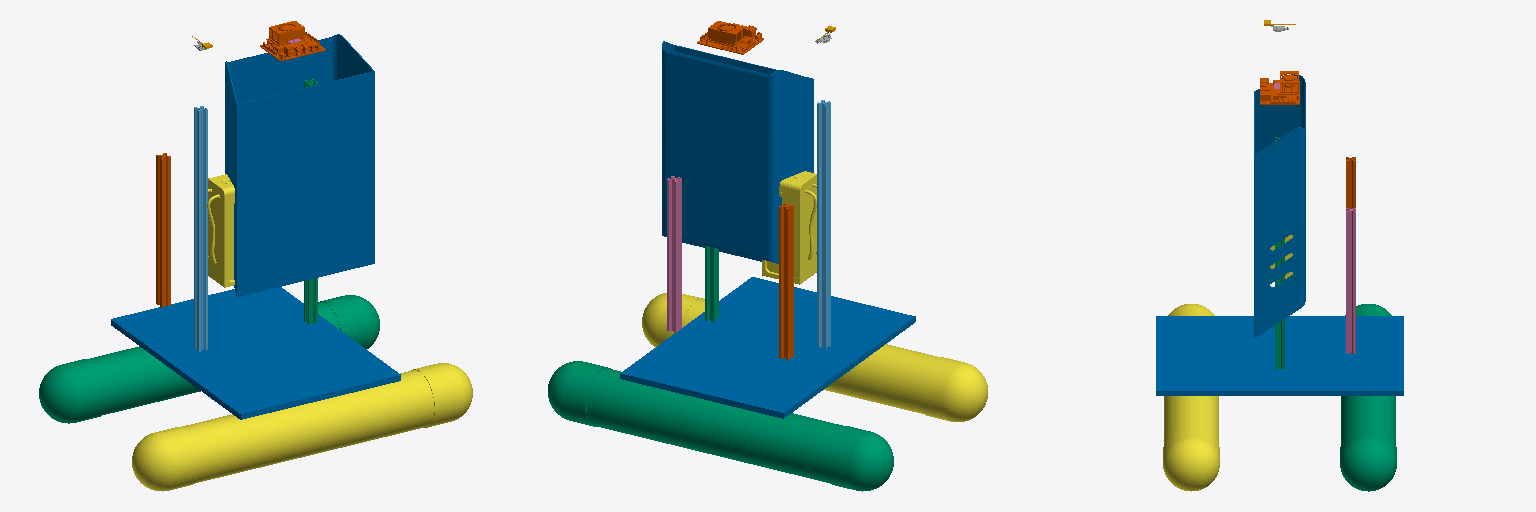
robot.urdf — asv_station_keeping_diag:
<?xml version='1.0' encoding='utf-8'?>
<robot name="asv_station_keeping_diag">
  <!-- Mesh-loading test only. Mounting poses are estimates, not Fusion occurrence transforms. 00_base has no visuals. -->
  <link name="base_footprint" />
  <link name="base_link">
    <inertial>
      <origin xyz="0 0 0" rpy="0 0 0" />
      <mass value="0.1" />
      <inertia ixx="0.0001" ixy="0" ixz="0" iyy="0.0001" iyz="0" izz="0.0001" />
    </inertial>
  </link>
  <link name="hull_left">
    <inertial>
      <origin xyz="0.0017543 -0.0000047 -0.0000010" rpy="0 0 0" />
      <mass value="8.7513272838" />
      <inertia ixx="0.0159438897" ixy="0" ixz="0" iyy="0.7485544942" iyz="0" izz="0.7485544942" />
    </inertial>
    <visual name="hull_left_visual">
      <origin xyz="-0.971730 0.357754 -1.641617" rpy="0 0 -1.57079632679" />
      <geometry>
        <mesh filename="package://asv_station_keeping/meshes/hull.stl" scale="0.001 0.001 0.001" />
      </geometry>
    </visual>
    <collision name="hull_left_collision">
      <geometry>
        <box size="0.724805 0.112973 0.112998" />
      </geometry>
    </collision>
  </link>
  <link name="hull_right">
    <inertial>
      <origin xyz="0.0017543 -0.0000047 -0.0000010" rpy="0 0 0" />
      <mass value="8.7513272838" />
      <inertia ixx="0.0159438897" ixy="0" ixz="0" iyy="0.7485544942" iyz="0" izz="0.7485544942" />
    </inertial>
    <visual name="hull_right_visual">
      <origin xyz="-0.971730 0.357754 -1.641617" rpy="0 0 -1.57079632679" />
      <geometry>
        <mesh filename="package://asv_station_keeping/meshes/hull.stl" scale="0.001 0.001 0.001" />
      </geometry>
    </visual>
    <collision name="hull_right_collision">
      <geometry>
        <box size="0.724805 0.112973 0.112998" />
      </geometry>
    </collision>
  </link>
  <link name="base_deck">
    <inertial>
      <origin xyz="0 0 0" rpy="0 0 0" />
      <mass value="16.1553" />
      <inertia ixx="0.3234344911" ixy="0" ixz="0" iyy="0.1651125511" iyz="0" izz="0.4881593150" />
    </inertial>
    <visual name="base_deck_visual">
      <origin xyz="-0.142254 -0.216347 -0.006000" rpy="1.57079632679 0 0" />
      <geometry>
        <mesh filename="package://asv_station_keeping/meshes/base_deck.stl" scale="0.001 0.001 0.001" />
      </geometry>
    </visual>
    <collision name="base_deck_collision">
      <geometry>
        <box size="0.350 0.490 0.012" />
      </geometry>
    </collision>
  </link>
  <link name="frame1_left">
    <inertial>
      <origin xyz="0 0 0" />
      <mass value="0.41469714" />
      <inertia ixx="0.00333785" ixy="0" ixz="0" iyy="0.00333785" iyz="0" izz="0.0000336422" />
    </inertial>
    <visual>
      <geometry>
        <mesh filename="package://asv_station_keeping/meshes/frame1.stl" scale="0.001 0.001 0.001" />
      </geometry>
    </visual>
    <collision>
      <geometry>
        <cylinder radius="0.010" length="0.310" />
      </geometry>
    </collision>
  </link>
  <link name="frame1_right">
    <inertial>
      <origin xyz="0 0 0" />
      <mass value="0.41469714" />
      <inertia ixx="0.00333785" ixy="0" ixz="0" iyy="0.00333785" iyz="0" izz="0.0000336422" />
    </inertial>
    <visual>
      <geometry>
        <mesh filename="package://asv_station_keeping/meshes/frame1.stl" scale="0.001 0.001 0.001" />
      </geometry>
    </visual>
    <collision>
      <geometry>
        <cylinder radius="0.010" length="0.310" />
      </geometry>
    </collision>
  </link>
  <link name="frame2_left">
    <inertial>
      <origin xyz="0 0 0" />
      <mass value="0.66886635" />
      <inertia ixx="0.01396185" ixy="0" ixz="0" iyy="0.01396185" iyz="0" izz="0.000054262" />
    </inertial>
    <visual>
      <geometry>
        <mesh filename="package://asv_station_keeping/meshes/frame2.stl" scale="0.001 0.001 0.001" />
      </geometry>
    </visual>
    <collision>
      <geometry>
        <cylinder radius="0.010" length="0.500" />
      </geometry>
    </collision>
  </link>
  <link name="frame2_right">
    <inertial>
      <origin xyz="0 0 0" />
      <mass value="0.66886635" />
      <inertia ixx="0.01396185" ixy="0" ixz="0" iyy="0.01396185" iyz="0" izz="0.000054262" />
    </inertial>
    <visual>
      <geometry>
        <mesh filename="package://asv_station_keeping/meshes/frame2.stl" scale="0.001 0.001 0.001" />
      </geometry>
    </visual>
    <collision>
      <geometry>
        <cylinder radius="0.010" length="0.500" />
      </geometry>
    </collision>
  </link>
  <link name="frame3_left">
    <inertial>
      <origin xyz="0 0 0" />
      <mass value="0.66886635" />
      <inertia ixx="0.01396185" ixy="0" ixz="0" iyy="0.01396185" iyz="0" izz="0.000054262" />
    </inertial>
    <visual>
      <geometry>
        <mesh filename="package://asv_station_keeping/meshes/frame3.stl" scale="0.001 0.001 0.001" />
      </geometry>
    </visual>
    <collision>
      <geometry>
        <cylinder radius="0.010" length="0.500" />
      </geometry>
    </collision>
  </link>
  <link name="frame3_right">
    <inertial>
      <origin xyz="0 0 0" />
      <mass value="0.66886635" />
      <inertia ixx="0.01396185" ixy="0" ixz="0" iyy="0.01396185" iyz="0" izz="0.000054262" />
    </inertial>
    <visual>
      <geometry>
        <mesh filename="package://asv_station_keeping/meshes/frame3.stl" scale="0.001 0.001 0.001" />
      </geometry>
    </visual>
    <collision>
      <geometry>
        <cylinder radius="0.010" length="0.500" />
      </geometry>
    </collision>
  </link>
  <link name="battery">
    <inertial>
      <origin xyz="0.011821 0 0.000846" />
      <mass value="8.29420474" />
      <inertia ixx="0.0317350" ixy="0" ixz="0.0000687" iyy="0.0339037" iyz="0" izz="0.00778636" />
    </inertial>
    <visual>
      <origin xyz="0.012244 -0.035000 -0.000150" />
      <geometry>
        <mesh filename="package://asv_station_keeping/meshes/battery.stl" scale="0.001 0.001 0.001" />
      </geometry>
    </visual>
    <collision>
      <geometry>
        <box size="0.109 0.070 0.202" />
      </geometry>
    </collision>
  </link>
  <link name="electronics">
    <inertial>
      <origin xyz="0 -0.005565 -0.000224" />
      <mass value="4.50915118" />
      <inertia ixx="0.0697094" ixy="0" ixz="0" iyy="0.1035140" iyz="-0.00452282" izz="0.0519051" />
    </inertial>
    <visual>
      <origin xyz="0 -0.051000 -0.023578" />
      <geometry>
        <mesh filename="package://asv_station_keeping/meshes/electronics.stl" scale="0.001 0.001 0.001" />
      </geometry>
    </visual>
    <collision>
      <geometry>
        <box size="0.300 0.102 0.447" />
      </geometry>
    </collision>
  </link>
  <link name="jetson_nano">
    <inertial>
      <origin xyz="-0.001623 0.002547 -0.004382" />
      <mass value="0.55767391" />
      <inertia ixx="0.00033845" ixy="0.000000893" ixz="0.00000257" iyy="0.00033690" iyz="-0.00004065" izz="0.00056875" />
    </inertial>
    <visual>
      <origin xyz="-0.004000 -0.007385 -0.025097" />
      <geometry>
        <mesh filename="package://asv_station_keeping/meshes/Jetson-Nano.stl" scale="0.001 0.001 0.001" />
      </geometry>
    </visual>
    <collision>
      <geometry>
        <box size="0.100 0.080 0.040" />
      </geometry>
    </collision>
  </link>
  <link name="imu_link">
    <inertial>
      <origin xyz="-0.00000256 0.00000402 0" />
      <mass value="0.00700317" />
      <inertia ixx="0.0000002895" ixy="0.000000000021" ixz="0" iyy="0.0000003634" iyz="0" izz="0.0000006497" />
    </inertial>
    <visual>
      <geometry>
        <mesh filename="package://asv_station_keeping/meshes/imu_Adafruit-BNO085-STEMMA-QT.step_Printed-Circuit-Board.step.stl" scale="0.001 0.001 0.001" />
      </geometry>
    </visual>
    <collision>
      <geometry>
        <box size="0.0254 0.0229 0.00165" />
      </geometry>
    </collision>
  </link>
  <link name="gps">
    <inertial>
      <origin xyz="0.000722 -0.000920 -0.001504" />
      <mass value="0.0120864" />
      <inertia ixx="0.0000007935" ixy="-0.0000001189" ixz="-0.0000000123" iyy="0.0000003115" iyz="-0.0000000289" izz="0.0000010352" />
    </inertial>
    <visual>
      <origin xyz="0.477241 -0.271714 -0.058863" />
      <geometry>
        <mesh filename="package://asv_station_keeping/meshes/gps.stl" scale="0.001 0.001 0.001" />
      </geometry>
    </visual>
    <collision>
      <geometry>
        <box size="0.018 0.038 0.010" />
      </geometry>
    </collision>
  </link>
  <link name="gps_antenna">
    <inertial>
      <origin xyz="0 -0.023073 0.000028" />
      <mass value="0.00977979" />
      <inertia ixx="0.0000006570" ixy="0" ixz="0" iyy="0.0000001906" iyz="0.0000000297" izz="0.0000007948" />
    </inertial>
    <visual>
      <origin xyz="0 -0.024375 -0.002900" />
      <geometry>
        <mesh filename="package://asv_station_keeping/meshes/gps_antenna.stl" scale="0.001 0.001 0.001" />
      </geometry>
    </visual>
    <collision>
      <geometry>
        <box size="0.015 0.064 0.006" />
      </geometry>
    </collision>
  </link>
  <joint name="base_footprint_to_base_link" type="fixed">
    <parent link="base_footprint" />
    <child link="base_link" />
    <origin xyz="0 0 0" rpy="0 0 0" />
  </joint>
  <joint name="base_to_hull_left" type="fixed">
    <parent link="base_link" />
    <child link="hull_left" />
    <origin xyz="0 0.175 0.055" rpy="0 0 0" />
  </joint>
  <joint name="base_to_hull_right" type="fixed">
    <parent link="base_link" />
    <child link="hull_right" />
    <origin xyz="0 -0.175 0.055" rpy="0 0 0" />
  </joint>
  <joint name="base_to_base_deck" type="fixed">
    <parent link="base_link" />
    <child link="base_deck" />
    <origin xyz="0 0 0.145" rpy="0 0 0" />
  </joint>
  <joint name="deck_to_frame1_left" type="fixed">
    <parent link="base_deck" />
    <child link="frame1_left" />
    <origin xyz="-0.12 0.14 0.22" />
  </joint>
  <joint name="deck_to_frame1_right" type="fixed">
    <parent link="base_deck" />
    <child link="frame1_right" />
    <origin xyz="0.12 0.14 0.22" />
  </joint>
  <joint name="deck_to_frame2_left" type="fixed">
    <parent link="base_deck" />
    <child link="frame2_left" />
    <origin xyz="-0.12 -0.14 0.28" />
  </joint>
  <joint name="deck_to_frame2_right" type="fixed">
    <parent link="base_deck" />
    <child link="frame2_right" />
    <origin xyz="0.12 -0.14 0.28" />
  </joint>
  <joint name="deck_to_frame3_left" type="fixed">
    <parent link="base_deck" />
    <child link="frame3_left" />
    <origin xyz="-0.12 0 0.28" />
  </joint>
  <joint name="deck_to_frame3_right" type="fixed">
    <parent link="base_deck" />
    <child link="frame3_right" />
    <origin xyz="0.12 0 0.28" />
  </joint>
  <joint name="deck_to_battery" type="fixed">
    <parent link="base_deck" />
    <child link="battery" />
    <origin xyz="-0.06 0 0.265" />
  </joint>
  <joint name="deck_to_electronics" type="fixed">
    <parent link="base_deck" />
    <child link="electronics" />
    <origin xyz="0.08 0 0.370" />
  </joint>
  <joint name="electronics_to_jetson" type="fixed">
    <parent link="electronics" />
    <child link="jetson_nano" />
    <origin xyz="0 0 0.255" />
  </joint>
  <joint name="electronics_to_imu" type="fixed">
    <parent link="electronics" />
    <child link="imu_link" />
    <origin xyz="0 0 0.255" />
  </joint>
  <joint name="deck_to_gps" type="fixed">
    <parent link="base_deck" />
    <child link="gps" />
    <origin xyz="-0.12 0 0.66" />
  </joint>
  <joint name="gps_to_antenna" type="fixed">
    <parent link="gps" />
    <child link="gps_antenna" />
    <origin xyz="0 0 0.010" />
  </joint>
</robot>

--- What the picture shows (computed from the rendered views, not written in the file) ---
The picture shows the robot from 3 angles, left to right: view 1: azimuth 30°, elevation 25°; view 2: azimuth 150°, elevation 25°; view 3: azimuth 270°, elevation 25°; orthographic projection.
Model asv_station_keeping_diag with 17 links and 16 joints (16 fixed), rooted at base_footprint, posed every joint at zero.
Links seen in each view (by area): view 1: electronics, base_deck, hull_right, hull_left, frame3_left, battery, frame1_left, jetson_nano, frame3_right; view 2: electronics, base_deck, hull_left, hull_right, frame3_left, battery, frame1_left, frame1_right, jetson_nano, frame3_right; view 3: base_deck, electronics, hull_right, hull_left, frame1_right, jetson_nano, frame3_right.
Boxes of the visible links, x1=… form: electronics: x1=225, y1=34, x2=374, y2=296; base_deck: x1=111, y1=287, x2=400, y2=419; hull_right: x1=132, y1=363, x2=472, y2=491; hull_left: x1=39, y1=295, x2=379, y2=423; frame3_left: x1=194, y1=106, x2=207, y2=351; battery: x1=207, y1=174, x2=234, y2=287; frame1_left: x1=156, y1=153, x2=170, y2=307; jetson_nano: x1=260, y1=21, x2=325, y2=60; frame3_right: x1=304, y1=79, x2=317, y2=324; electronics: x1=662, y1=41, x2=813, y2=263; base_deck: x1=620, y1=277, x2=915, y2=418; hull_left: x1=548, y1=361, x2=893, y2=491; hull_right: x1=642, y1=293, x2=987, y2=421; frame3_left: x1=817, y1=100, x2=830, y2=349; battery: x1=762, y1=171, x2=816, y2=284; frame1_left: x1=779, y1=203, x2=793, y2=359; frame1_right: x1=667, y1=176, x2=681, y2=332; jetson_nano: x1=697, y1=21, x2=763, y2=54; frame3_right: x1=705, y1=246, x2=718, y2=322; base_deck: x1=1156, y1=316, x2=1403, y2=395; electronics: x1=1254, y1=75, x2=1305, y2=337; hull_right: x1=1163, y1=304, x2=1219, y2=491; hull_left: x1=1340, y1=304, x2=1396, y2=491; frame1_right: x1=1346, y1=208, x2=1355, y2=353; jetson_nano: x1=1260, y1=71, x2=1299, y2=104; frame3_right: x1=1275, y1=137, x2=1284, y2=369.
Bounding box of the posed robot: 0.7248 × 0.49 × 0.8194 m (x, y, z).
Meshes: 11 distinct files referenced, 13 mesh visuals loaded (10 binary STL); not drawn: 2 (reference not matched to a file when rendering).
